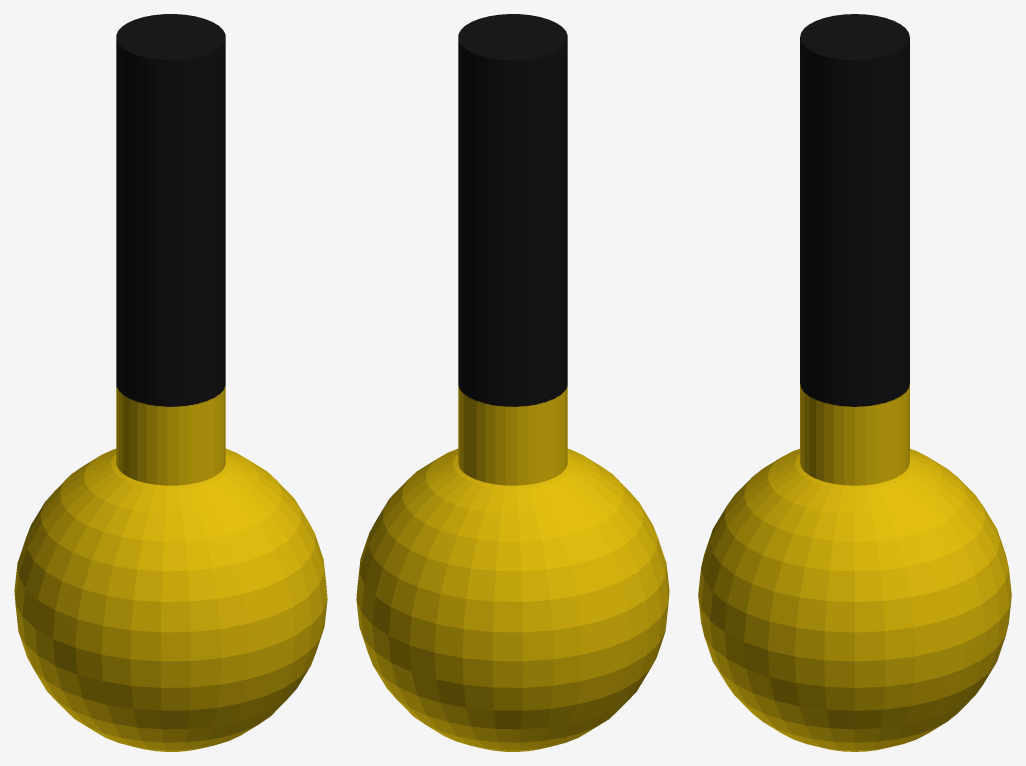
File: buoy_north.fbx
3 views of the same model, side by side, from view 1: azimuth 30°, elevation 25°; view 2: azimuth 150°, elevation 25°; view 3: azimuth 270°, elevation 25° (orthographic).
Parts seen in each view (by area): view 1: Sphere.002, Cylinder.020; view 2: Sphere.002, Cylinder.020; view 3: Sphere.002, Cylinder.020.
Boxes of the visible parts, x1=… form: Sphere.002: x1=14, y1=448, x2=327, y2=751; Cylinder.020: x1=116, y1=14, x2=225, y2=485; Sphere.002: x1=356, y1=448, x2=669, y2=751; Cylinder.020: x1=458, y1=14, x2=567, y2=485; Sphere.002: x1=698, y1=449, x2=1011, y2=751; Cylinder.020: x1=800, y1=14, x2=909, y2=485.
Bounding box in the file's own units: 40 × 98.5 × 40.
Materials: 2 (2 with a texture image).
